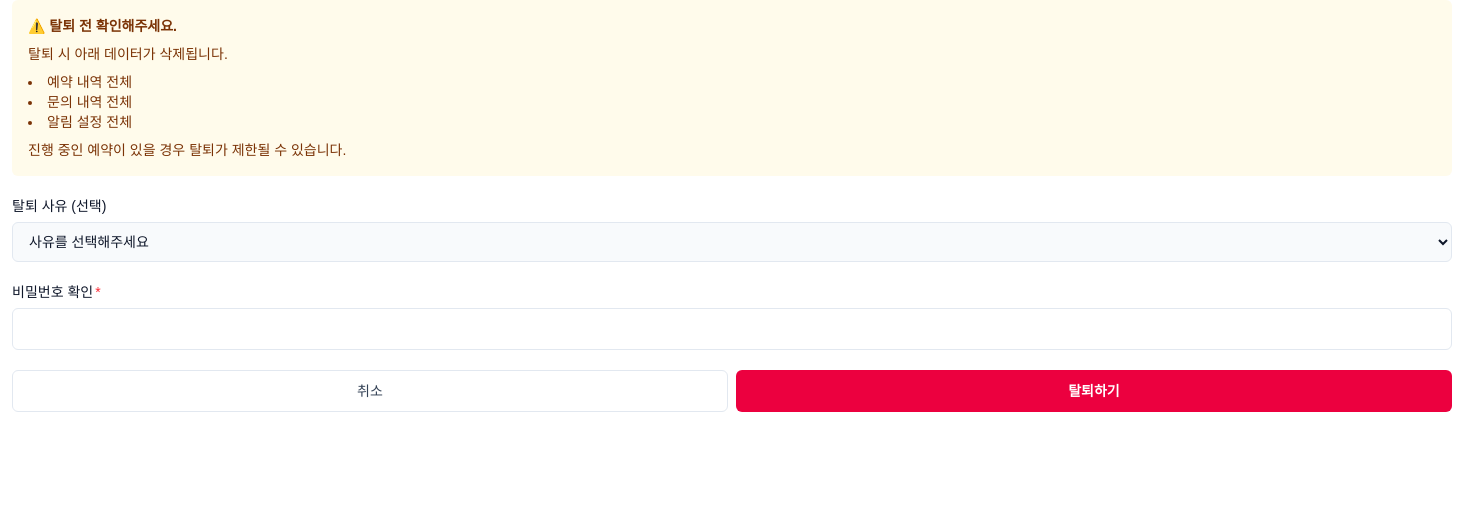
WithdrawFlow › 진행 중 예약 → 차단 안내 + 내 예약 링크
Step 1. Type "abcd1234" into the password field labelled "비밀번호 확인*" → (732, 329), box [12,308,1452,350]
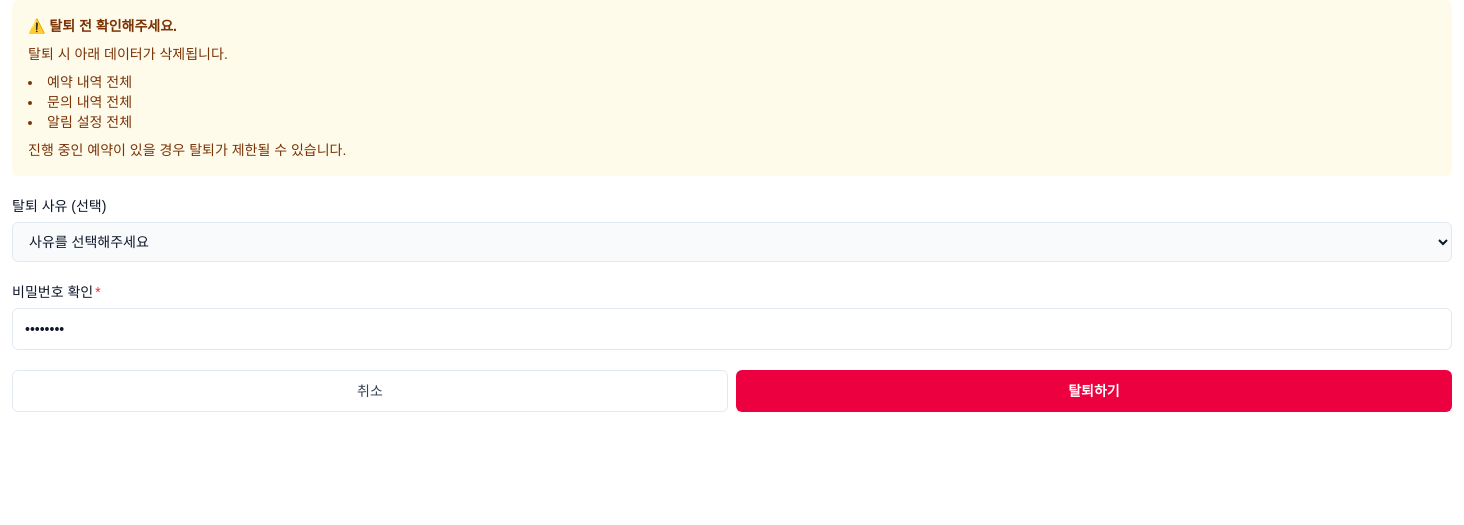
Step 2. Click the button "탈퇴하기" → (1094, 391), box [736,370,1452,412]
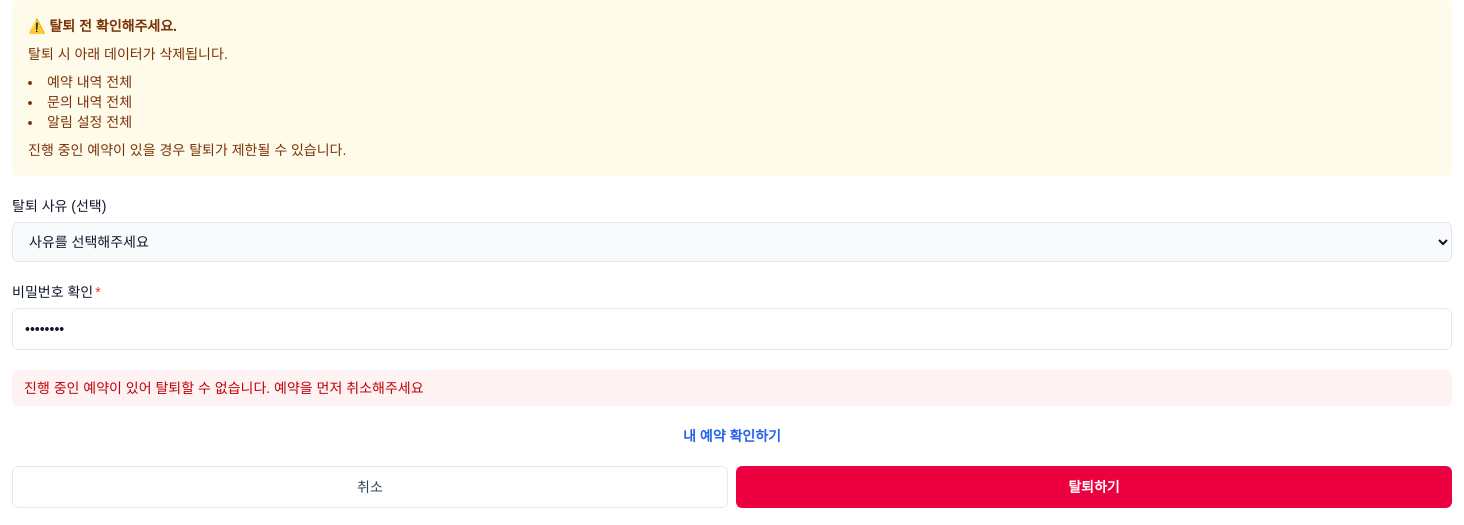
Expected: the message shows "진행 중인 예약이 있어", [24,380,424,396]
